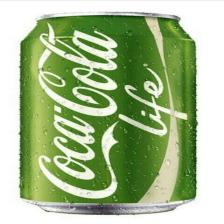green: (20, 12, 196, 215)
